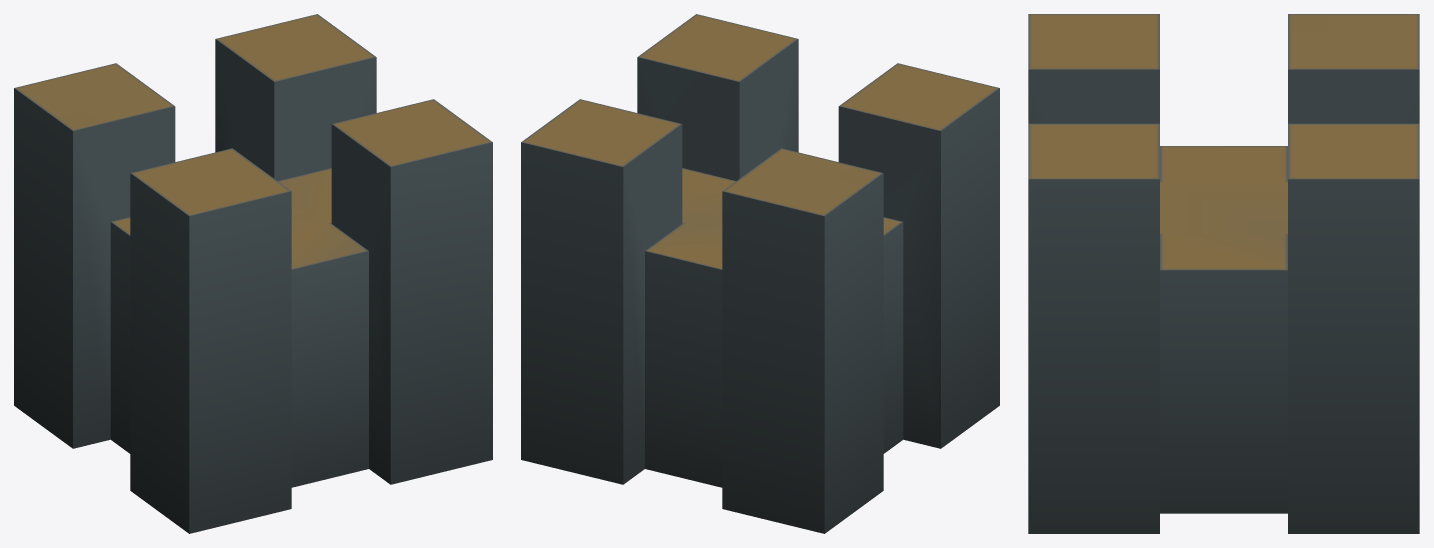
File: Castle.glb
3 views of the same model, side by side, from view 1: azimuth 30°, elevation 25°; view 2: azimuth 150°, elevation 25°; view 3: azimuth 270°, elevation 25° (orthographic). The views are drawn at different scales.
Visible parts, largest first — view 1: Castle; view 2: Castle; view 3: Castle.
Boxes of the visible parts, x1,y1,x2,y2 form: Castle: (14, 14, 492, 533); Castle: (521, 14, 999, 533); Castle: (1028, 14, 1419, 533).
Size of the model in its own units: 1 by 1 by 1.
